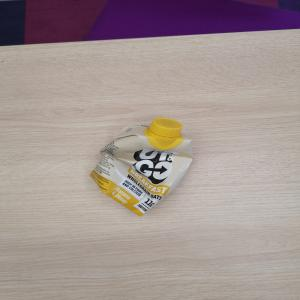Trash: (90, 118, 197, 219)
